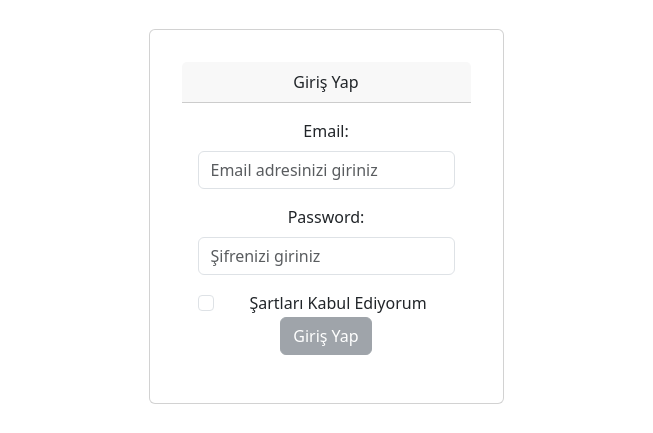
Scenario: Login Page › Error Messages › Password input throws error for 1234
The width and height of the screenshot is (653, 433).
In the password field with test id "password-input": (327,256) [198, 237, 455, 275], type "1234"
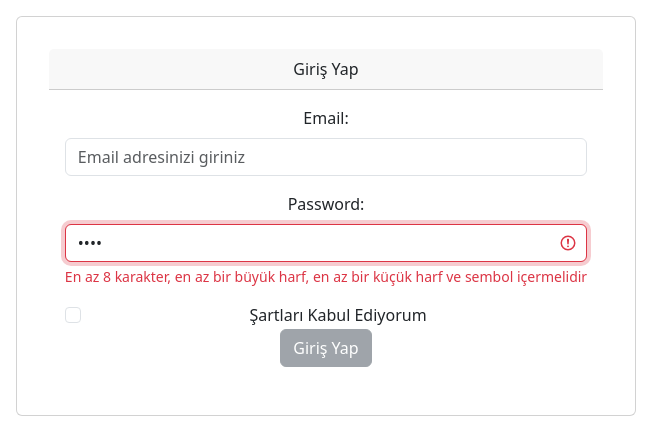
Check: the text "En az 8 karakter, en az bir büyük harf, en az bir küçük harf ve sembol içermelidir" is shown, box [65, 267, 587, 286]
